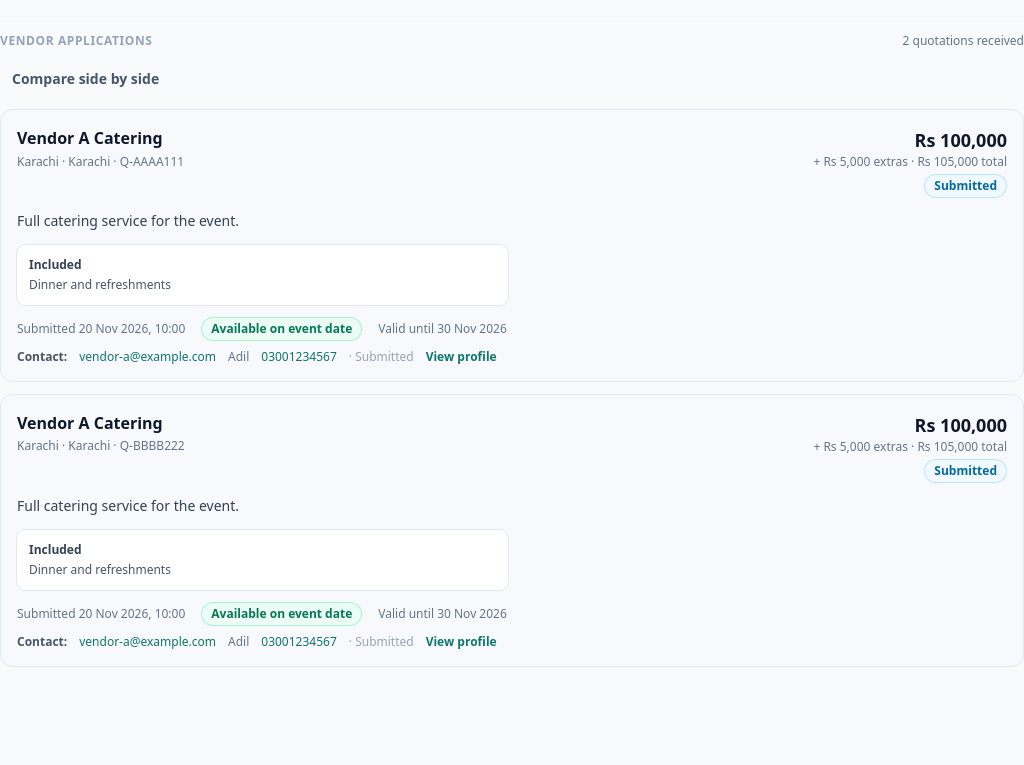
RequestApplications › renders the server-generated comparison payload on demand
Expected: the text "2 quotations received" is shown, [902,33,1023,49]
What coordinates should you click on to do the following:
click the button "Compare side by side"
I would click on:
 (86, 79)
Its box is [0,61,171,97].
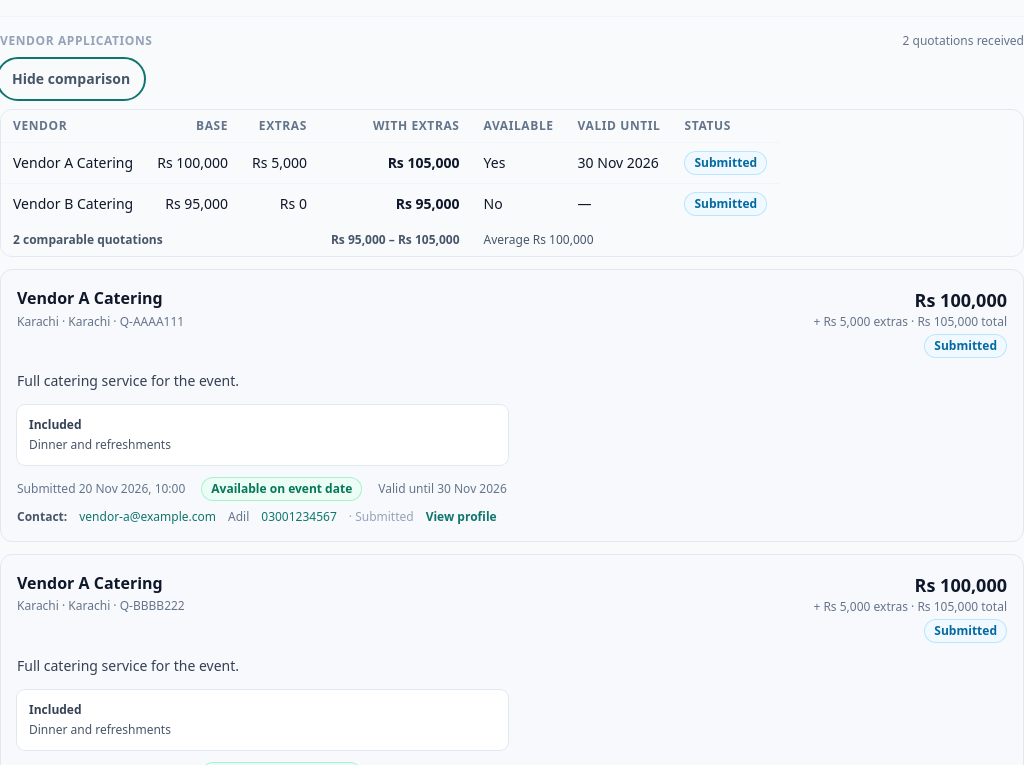
Now the column heading "With extras" is shown, box [319,110,472,142]
Now the text "Vendor A Catering" is shown, box [1,142,145,184]
Now the text "Vendor B Catering" is shown, box [1,184,145,224]
